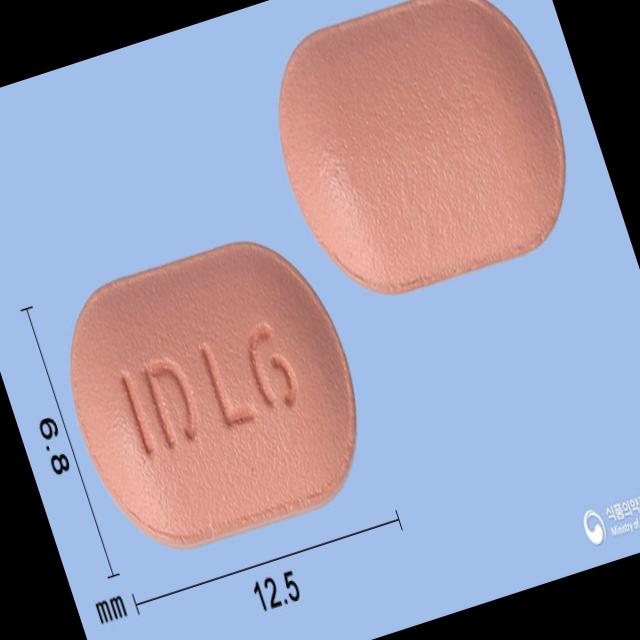Levofexin: (40, 220, 390, 570)
